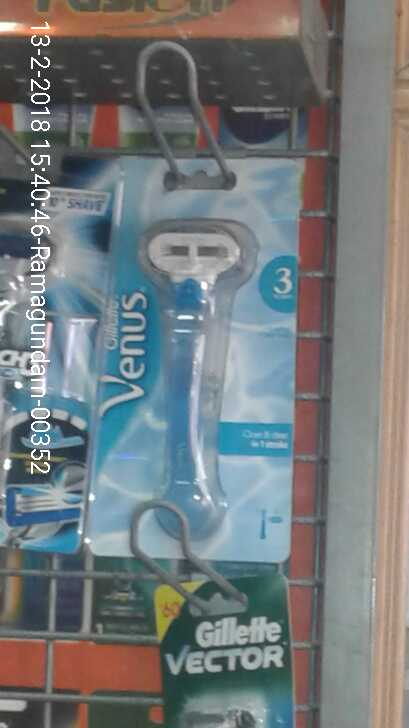venus: (104, 152, 304, 567)
